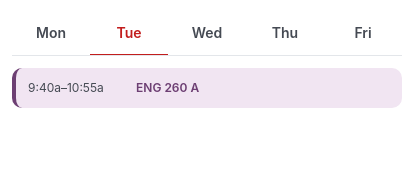
Scenario: WeekGrid › defaults to the first day with a class and says when a day is empty
Click the tab named "Monday": (51,34) [12,12,90,56]
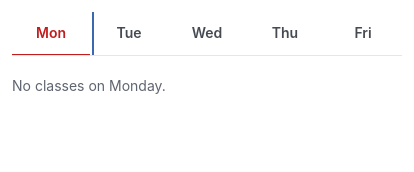
expect the panel reads "No classes on Monday.": met, box [12,77,166,94]
